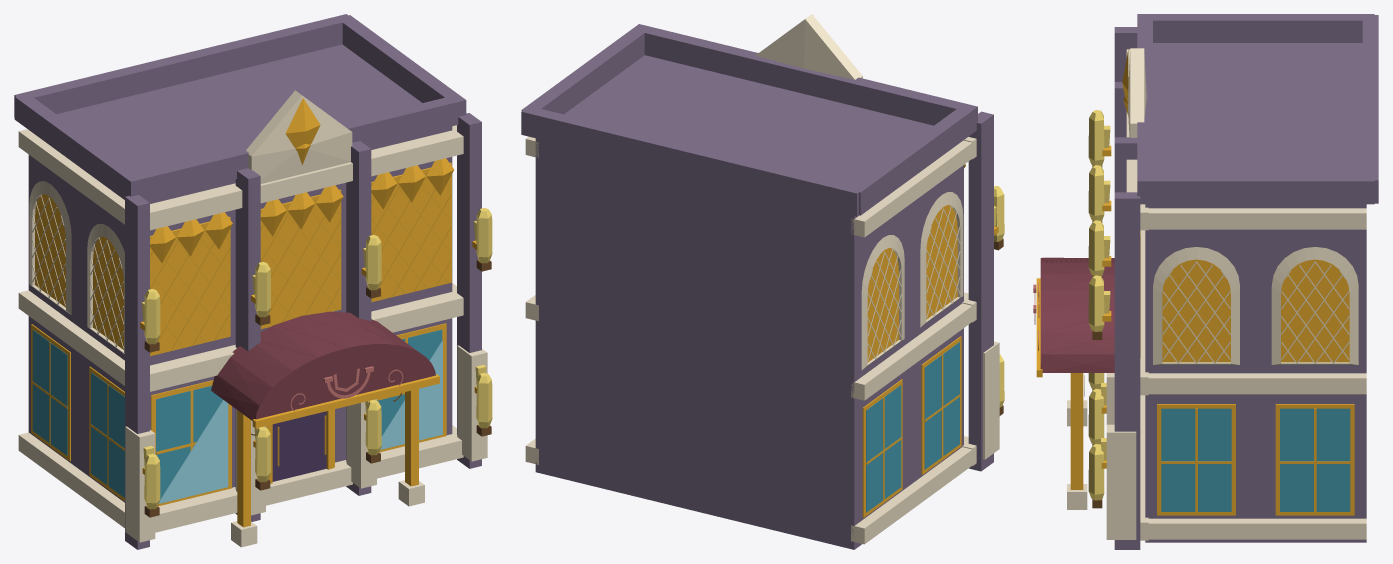
Rendered from building.glb.
The picture shows the model from 3 angles, left to right: view 1: azimuth 30°, elevation 25°; view 2: azimuth 150°, elevation 25°; view 3: azimuth 270°, elevation 25°; orthographic projection. The views are drawn at different scales.
Parts seen in each view (by area): view 1: 16_Hotel_ArtDecoEnvelopeAndPaperCanopy, 16_R2C_Hotel_FoldedPedimentLanternsCanopySupports; view 2: 16_Hotel_ArtDecoEnvelopeAndPaperCanopy, 16_R2C_Hotel_FoldedPedimentLanternsCanopySupports; view 3: 16_Hotel_ArtDecoEnvelopeAndPaperCanopy, 16_R2C_Hotel_FoldedPedimentLanternsCanopySupports.
Boxes of the visible parts, x1,y1,x2,y2 form: 16_Hotel_ArtDecoEnvelopeAndPaperCanopy: (14, 14, 487, 549); 16_R2C_Hotel_FoldedPedimentLanternsCanopySupports: (144, 90, 492, 547); 16_Hotel_ArtDecoEnvelopeAndPaperCanopy: (521, 24, 999, 549); 16_R2C_Hotel_FoldedPedimentLanternsCanopySupports: (755, 14, 1004, 415); 16_Hotel_ArtDecoEnvelopeAndPaperCanopy: (1036, 14, 1378, 549); 16_R2C_Hotel_FoldedPedimentLanternsCanopySupports: (1033, 48, 1146, 509).
Size of the model in its own units: 1.04 by 1.16 by 0.8725.
